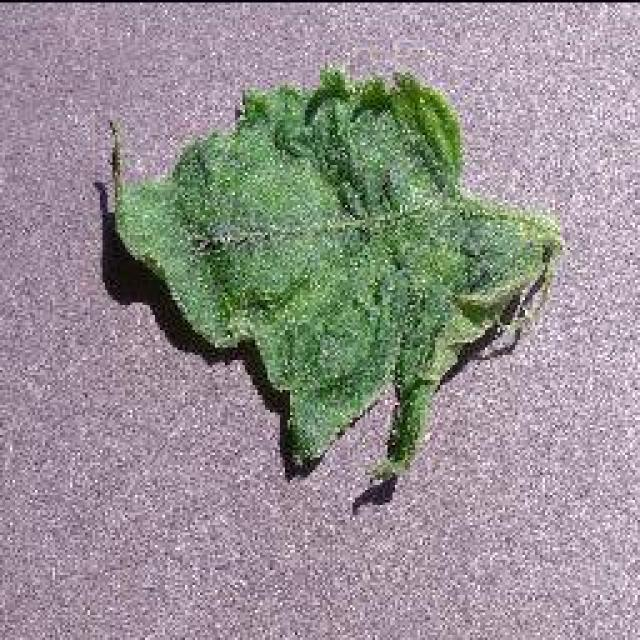Tomato___Tomato_mosaic_virus: (112, 68, 560, 475)
